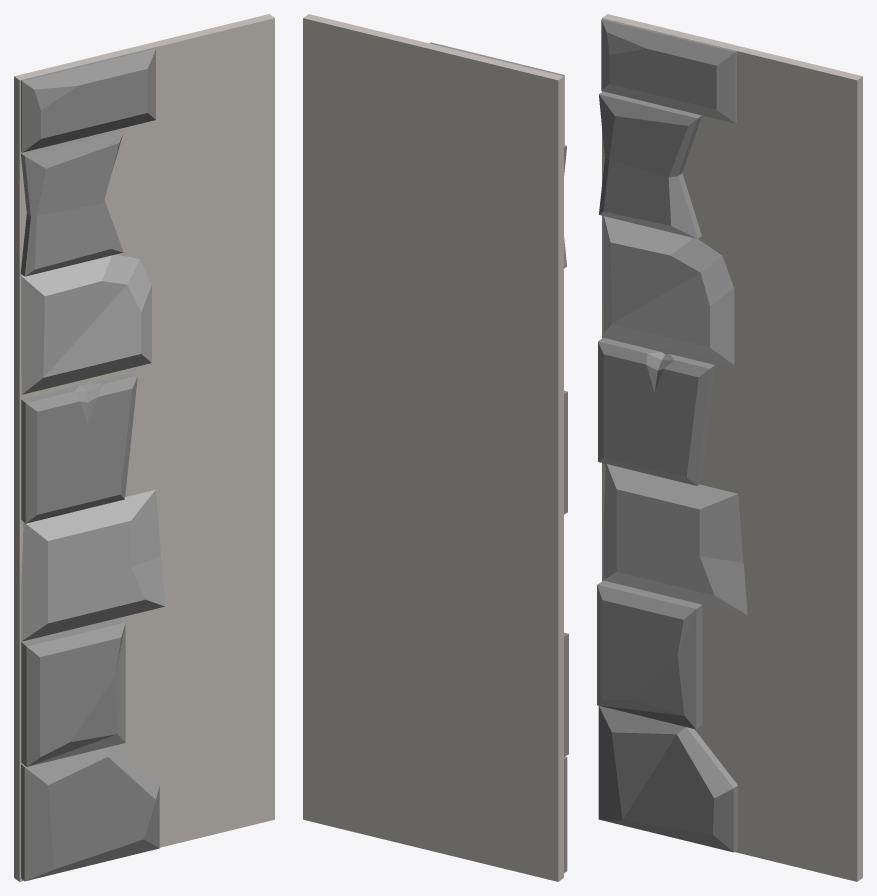
The model's file is _WALL_05_1.fbx.
3 views of the same model, side by side, from view 1: azimuth 30°, elevation 25°; view 2: azimuth 150°, elevation 25°; view 3: azimuth 330°, elevation 25° (orthographic).
Parts seen in each view (by area): view 1: WALL_05_1; view 2: WALL_05_1; view 3: WALL_05_1.
Boxes of the visible parts, left/top/right/bottom form: WALL_05_1: left=14, top=14, right=274, bottom=881; WALL_05_1: left=303, top=14, right=568, bottom=881; WALL_05_1: left=597, top=14, right=862, bottom=881.
Size of the model in its own units: 100 by 300 by 12.
